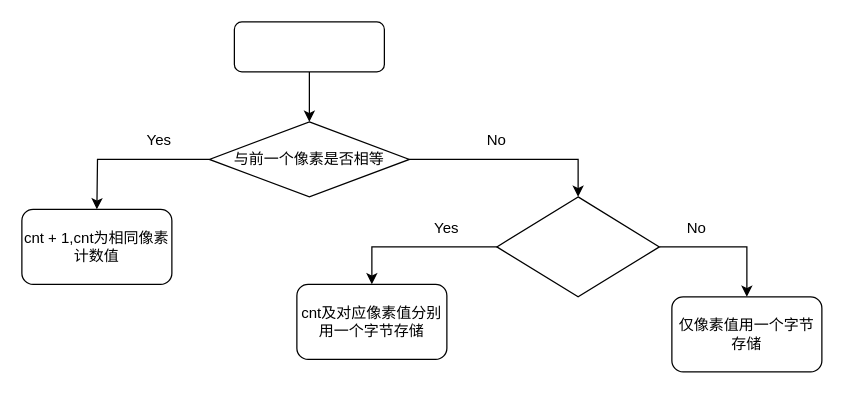
Some shapes in this 844 by 394 pixel diagram are drawn without their labels. Each missing label, with the centre of its shape:
"cnt > 1" goes at (577,246).
"扫描新的像素" goes at (308,46).
